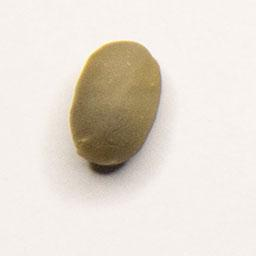peaberry: (65, 35, 165, 176)
